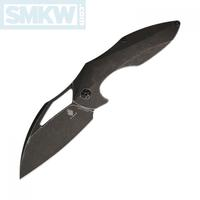knife: (16, 17, 174, 185)
